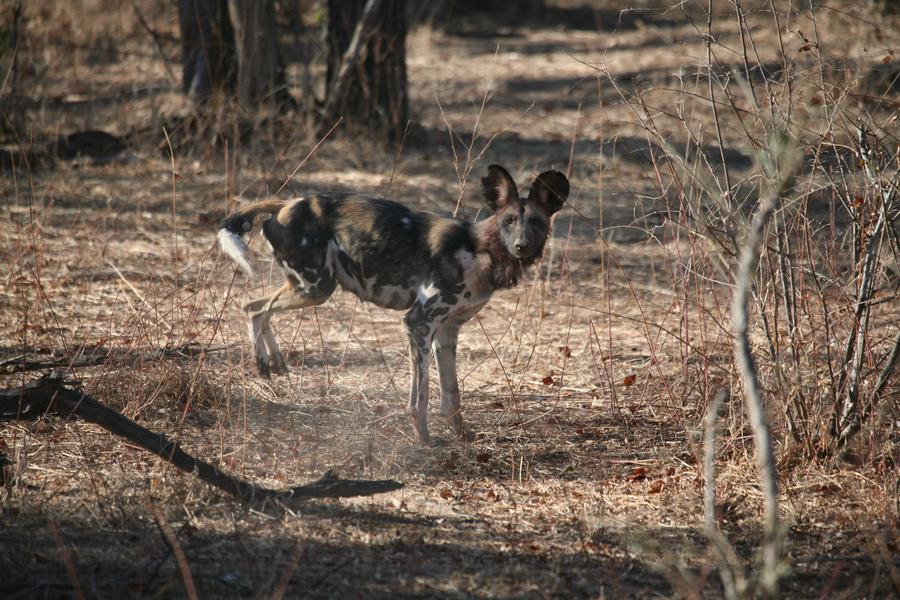wilddog: (253, 177, 569, 356)
